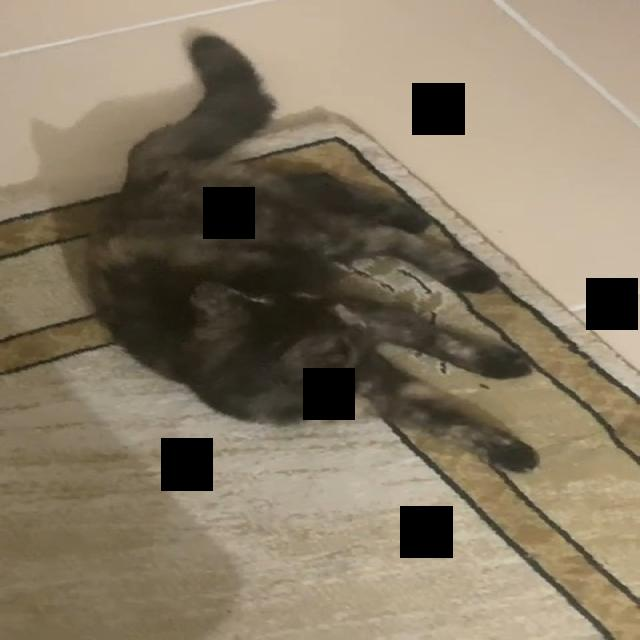authorized: (83, 26, 541, 474)
